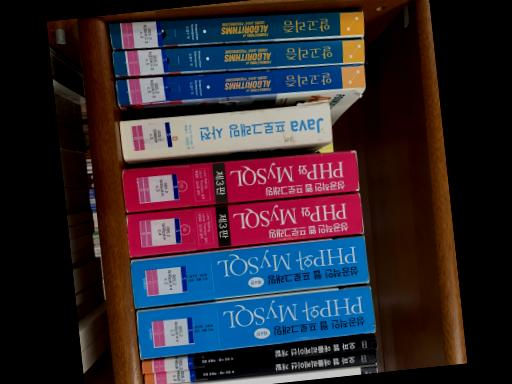book-spine: (130, 236, 368, 309), (135, 287, 375, 359), (125, 193, 363, 258), (120, 152, 358, 212), (119, 102, 331, 162), (108, 9, 362, 50), (115, 65, 364, 106), (111, 38, 363, 78), (140, 336, 376, 374), (144, 351, 376, 384), (172, 365, 376, 384)
